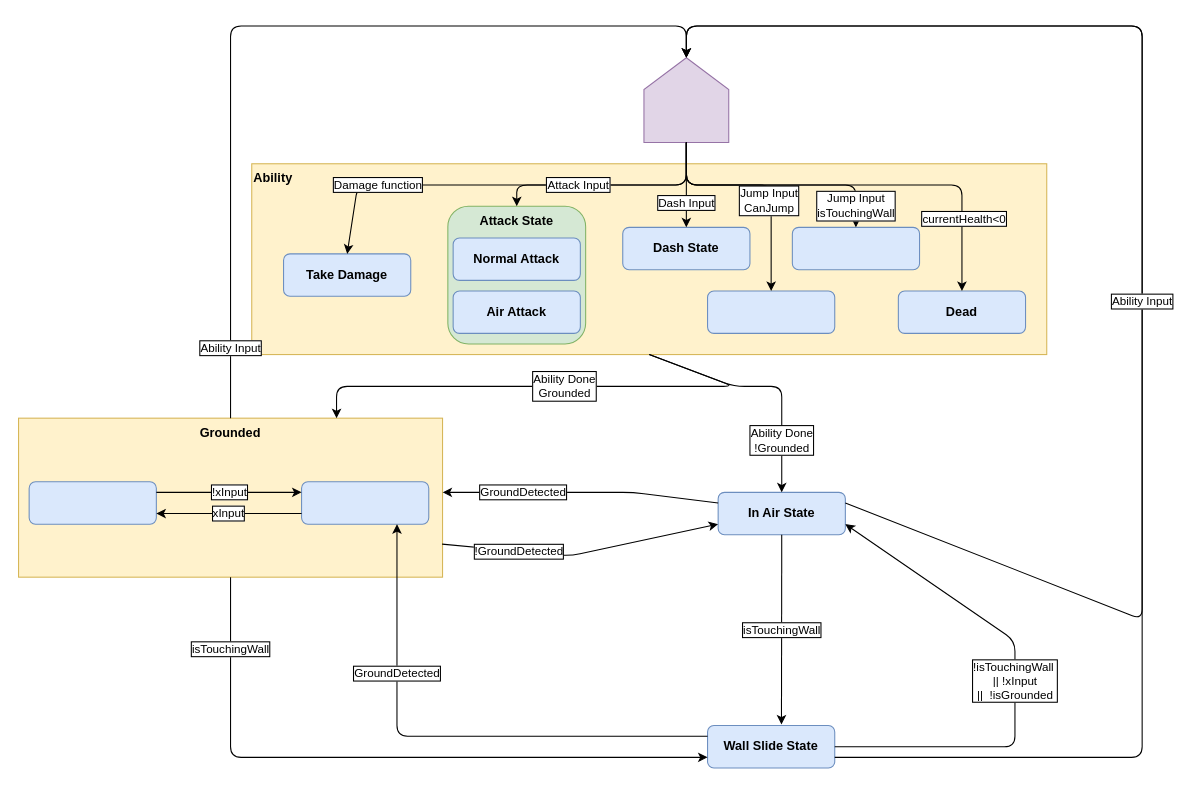
The diagram is 1191 pixels wide and 787 high, and some of its shapes have lost their labels. Here are the shapes that lost their labels. From the top down, the centre of each, then its label:
At pixel 686 100: "Input Handler".
At pixel 855 248: "Wall Jump State".
At pixel 770 311: "Jump State".
At pixel 92 502: "Move State".
At pixel 365 502: "Idle State".
